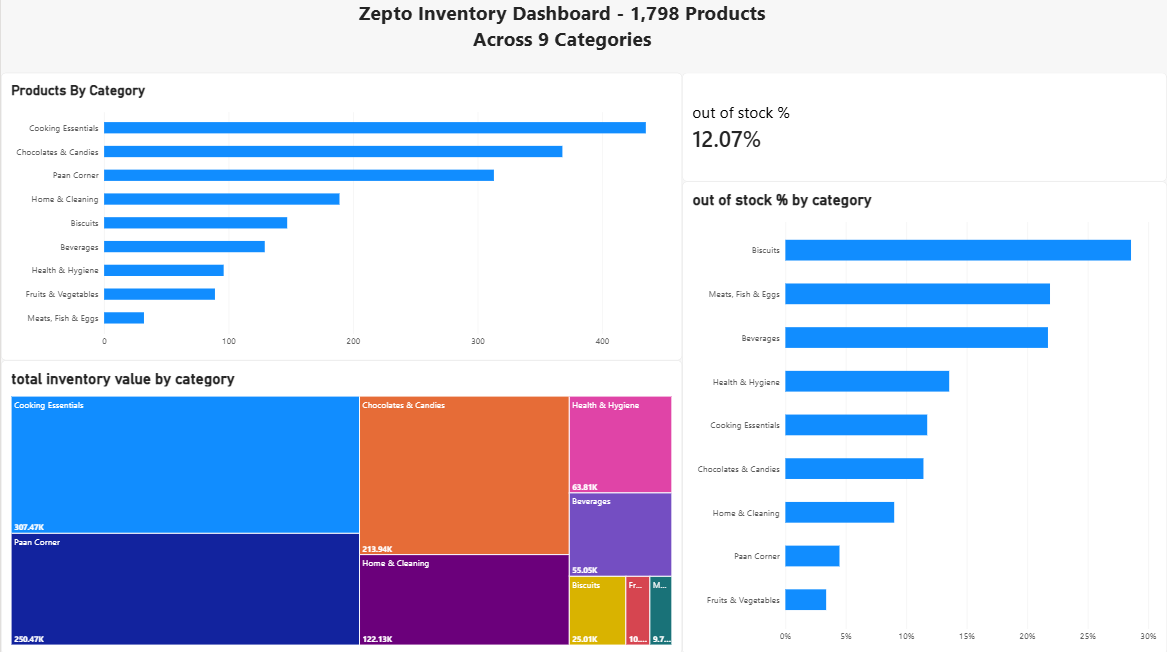

This screenshot's page, from the dashboard's own definition file:
{"tool":"powerbi","page":{"name":"project report dashboard","canvas":[1920,1080],"ordinal":0},"visuals":[{"type":"clusteredBarChart","title":"Products By Category","fields":{"Category":["zapato_analysis zapato_clean.category"],"Y":["zapato_analysis zapato_clean.total_product"]},"box":[0,121.4,1121.8,473.4],"z":0},{"type":"cardVisual","fields":{"Data":["zapato_analysis zapato_clean.out of stock %"]},"box":[1121.8,121.4,798.6,179.1],"z":1},{"type":"clusteredBarChart","title":"out of stock % by category","fields":{"Category":["zapato_analysis zapato_clean.category"],"Y":["zapato_analysis zapato_clean.out of stock %"]},"box":[1121.8,300.5,798.6,780.1],"z":2},{"type":"treemap","title":"total inventory value by category","fields":{"Group":["zapato_analysis zapato_clean.category"],"Values":["zapato_analysis zapato_clean.total inventory value"]},"box":[0,594.9,1121.8,485.8],"z":3},{"type":"textbox","box":[561.9,0,724.5,121.4],"z":5}]}

Visuals, with their boxes in screenshot pixels (x1, y1, x2, y2), scaled from the page's 1920x1080 canvas onto the 1167x652 screenshot:
"Products By Category" clusteredBarChart: BBox(0, 73, 682, 359)
cardVisual - zapato_analysis zapato_clean.out of stock %: BBox(682, 73, 1166, 181)
"out of stock % by category" clusteredBarChart: BBox(682, 181, 1166, 651)
"total inventory value by category" treemap: BBox(0, 359, 682, 651)
textbox: BBox(342, 0, 782, 73)
